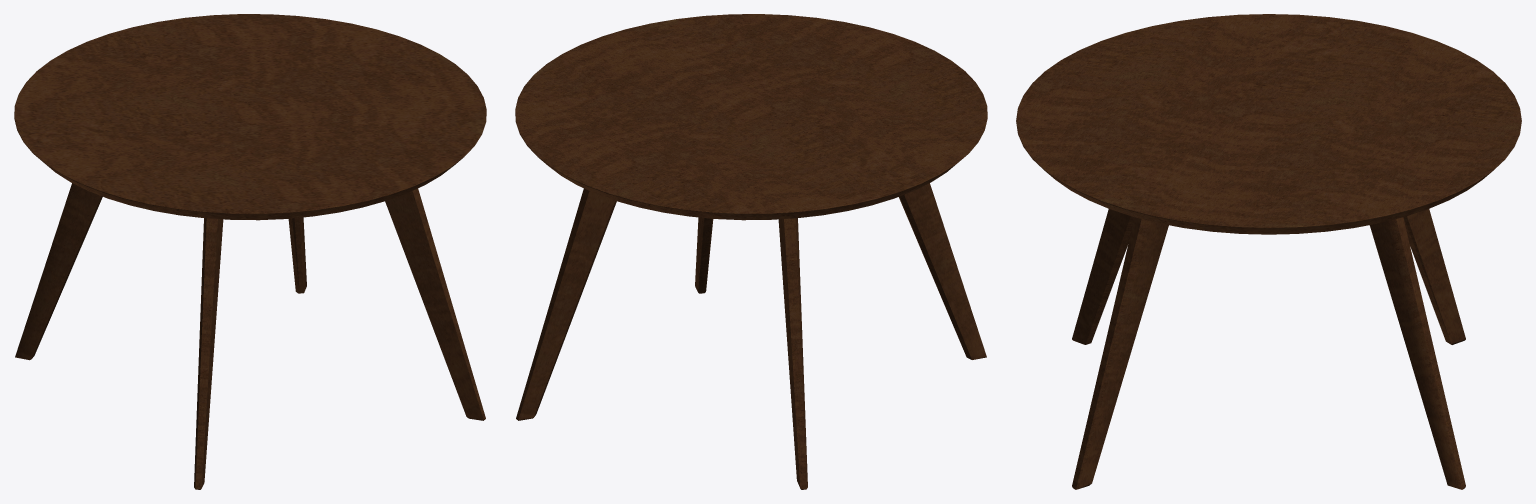
Rendered from table.glb.
3 renders of one model, left to right at view 1: azimuth 30°, elevation 25°; view 2: azimuth 150°, elevation 25°; view 3: azimuth 270°, elevation 25°, orthographic. The views are drawn at different scales.
Parts seen in each view (by area): view 1: table, table.001; view 2: table, table.001; view 3: table, table.001.
Part boxes in pixels (left/top/right/bottom): table: left=14, top=14, right=486, bottom=220; table.001: left=15, top=183, right=485, bottom=489; table: left=515, top=14, right=987, bottom=220; table.001: left=516, top=183, right=986, bottom=489; table: left=1016, top=14, right=1521, bottom=234; table.001: left=1072, top=209, right=1465, bottom=489.
Size of the model in its own units: 1.39 by 0.8918 by 1.39.
1 material, 1 textured.
